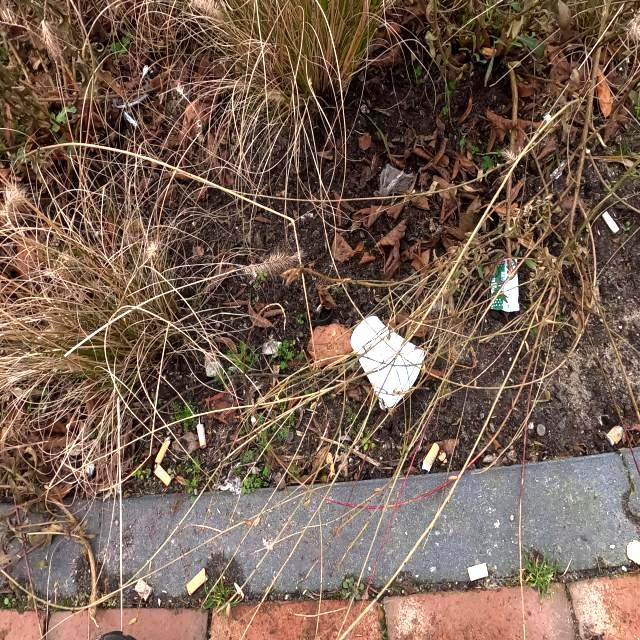Coffee Cup: (350, 314, 424, 410)
Paper: (262, 339, 282, 358)
Plastic: (490, 258, 520, 312)
